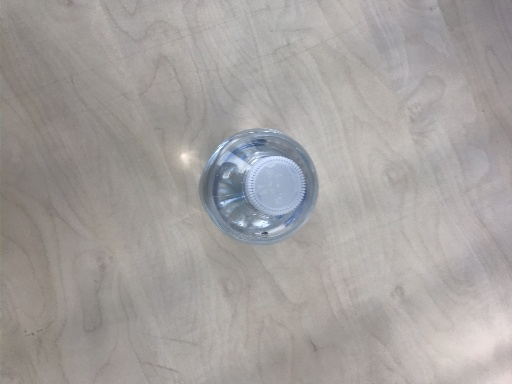Acqua: (201, 122, 318, 246)
